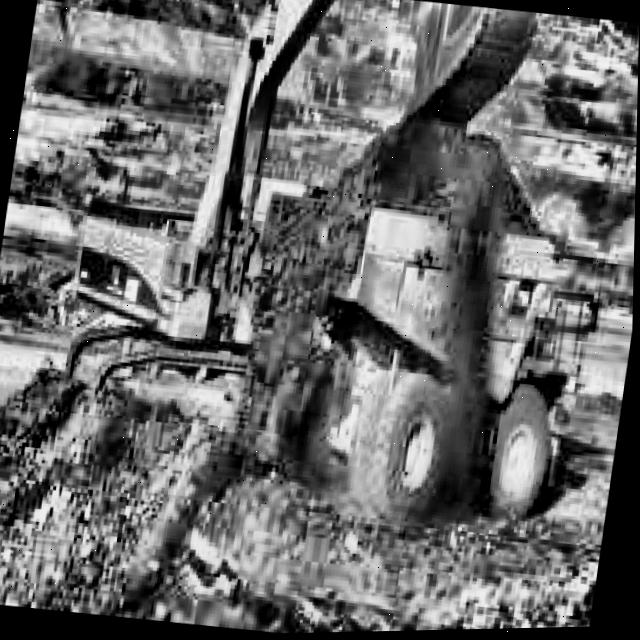dump_truck: (227, 92, 618, 534)
excavator: (40, 0, 545, 439)
